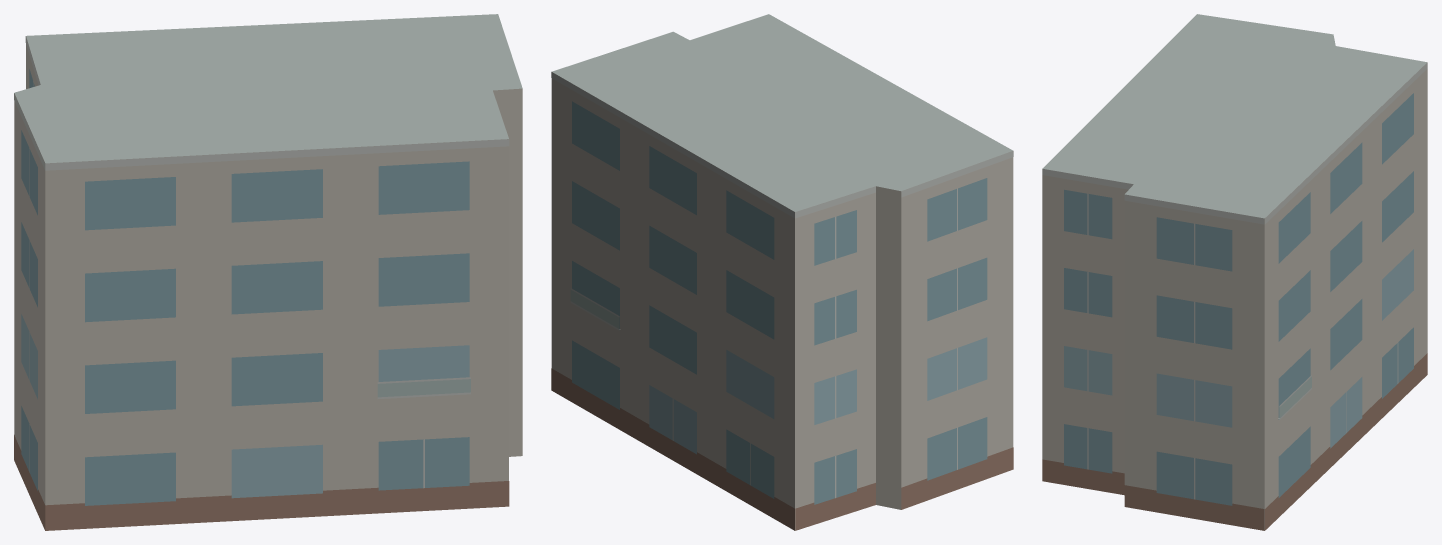
Rendered from survey-upis-32851864.glb.
The picture shows the model from 3 angles, left to right: view 1: azimuth 30°, elevation 25°; view 2: azimuth 150°, elevation 25°; view 3: azimuth 270°, elevation 25°; orthographic projection. The views are drawn at different scales.
Parts seen in each view (by area): view 1: survey-upis-32851864.tmp; view 2: survey-upis-32851864.tmp; view 3: survey-upis-32851864.tmp.
Boxes of the visible parts, box(x1,y1,x2,y2) form: survey-upis-32851864.tmp: box(14, 14, 522, 530); survey-upis-32851864.tmp: box(551, 14, 1013, 530); survey-upis-32851864.tmp: box(1042, 14, 1427, 530).
Size of the model in its own units: 17.12 by 12.2 by 13.64.
